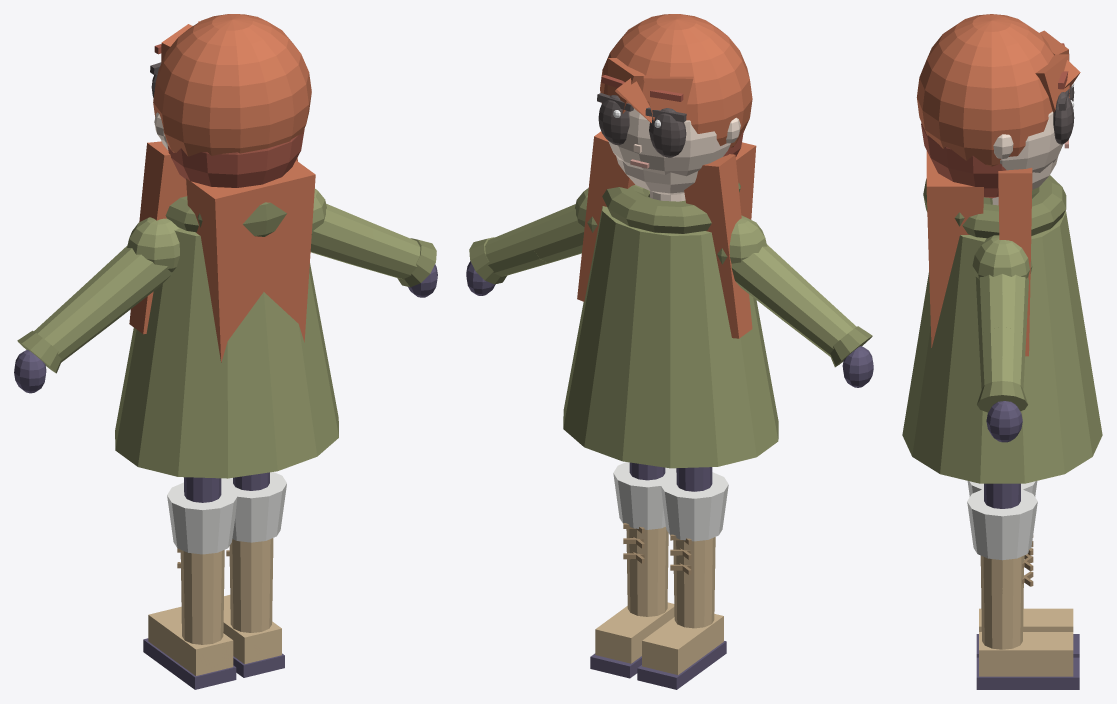
File: girl_redhair.glb
3 views of the same model, side by side, from view 1: azimuth 30°, elevation 25°; view 2: azimuth 150°, elevation 25°; view 3: azimuth 270°, elevation 25° (orthographic). The views are drawn at different scales.
Visible parts, largest first — view 1: Coat, Hair_Cap, Hair_Back, Hair_Under, BootShaft_L, BootShaft_R, BootCuff_L, SleeveUpper_L, HairSide_L, BootFoot_L, SleeveFore_L, BootCuff_R (+12 smaller); view 2: Coat, Hair_Cap, HairSide_L, Head, Cowl, BootShaft_L, BootShaft_R, BootCuff_L, BootFoot_L, SleeveUpper_L, HairSide_R, BootCuff_R (+18 smaller); view 3: Coat, Hair_Cap, Hair_Back, BootShaft_R, BootCuff_R, BootFoot_R, HairSide_R, SleeveUpper_R, Cowl, SleeveFore_R, Hair_Under, Shoulder_R (+11 smaller).
Part boxes in pixels (bbox=[...]): Coat: bbox=[115, 228, 338, 478]; Hair_Cap: bbox=[153, 14, 311, 156]; Hair_Back: bbox=[186, 160, 315, 362]; Hair_Under: bbox=[168, 129, 304, 187]; BootShaft_L: bbox=[180, 550, 224, 644]; BootShaft_R: bbox=[229, 538, 273, 632]; BootCuff_L: bbox=[167, 482, 238, 554]; SleeveUpper_L: bbox=[81, 245, 172, 324]; HairSide_L: bbox=[129, 141, 187, 334]; BootFoot_L: bbox=[148, 606, 233, 675]; SleeveFore_L: bbox=[34, 288, 111, 362]; BootCuff_R: bbox=[221, 472, 286, 542]; Coat: bbox=[563, 206, 778, 468]; Hair_Cap: bbox=[600, 14, 752, 147]; HairSide_L: bbox=[684, 154, 752, 338]; Head: bbox=[608, 108, 730, 176]; Cowl: bbox=[602, 184, 711, 233]; BootShaft_L: bbox=[673, 537, 715, 628]; BootShaft_R: bbox=[626, 526, 668, 616]; BootCuff_L: bbox=[661, 472, 728, 541]; BootFoot_L: bbox=[642, 614, 723, 674]; SleeveUpper_L: bbox=[731, 244, 810, 320]; HairSide_R: bbox=[577, 131, 634, 301]; BootCuff_R: bbox=[613, 462, 676, 529]; Coat: bbox=[902, 211, 1102, 483]; Hair_Cap: bbox=[916, 14, 1054, 166]; Hair_Back: bbox=[926, 151, 983, 347]; BootShaft_R: bbox=[980, 555, 1024, 649]; BootCuff_R: bbox=[967, 489, 1037, 560]; BootFoot_R: bbox=[979, 632, 1073, 676]; HairSide_R: bbox=[998, 167, 1032, 356]; SleeveUpper_R: bbox=[975, 274, 1028, 339]; Cowl: bbox=[962, 175, 1066, 238]; SleeveFore_R: bbox=[979, 327, 1025, 389]; Hair_Under: bbox=[921, 123, 1006, 198]; Shoulder_R: bbox=[972, 235, 1032, 278].
Bounding box in the file's own units: 2.23 × 3.34 × 0.935.
